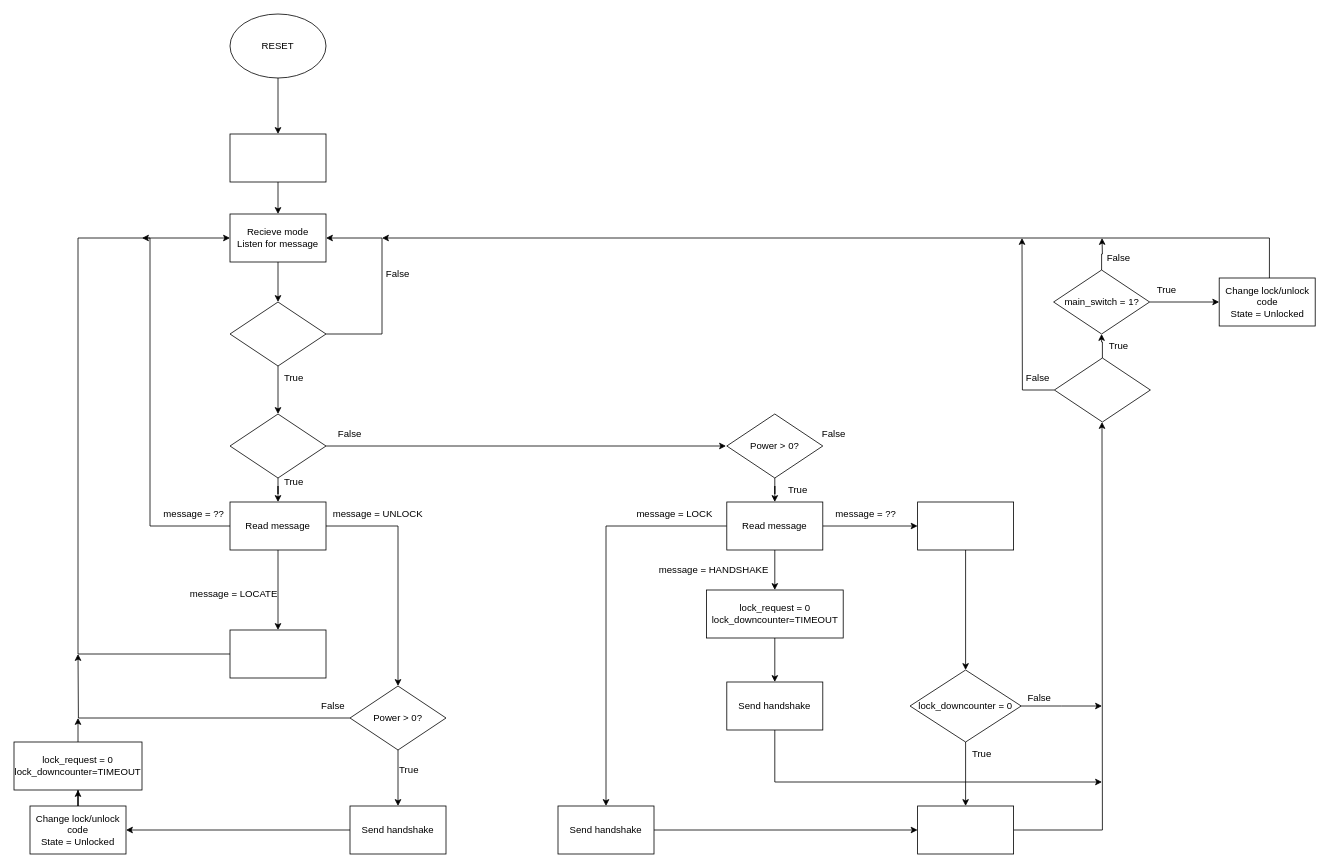
This 1330x868 diagram has some shape labels left out. The centre of each missing label's shape, as x and y in pixels:
"Flashing vehicle light" belongs at point (277, 653).
"lock_downcounter--" belongs at point (965, 525).
"lock_request = 1" belongs at point (965, 829).
"lock_request = 1?" belongs at point (1102, 389).
"Message available?" belongs at point (277, 333).
"State = Locked" belongs at point (277, 157).
"State = Locked?" belongs at point (277, 445).
